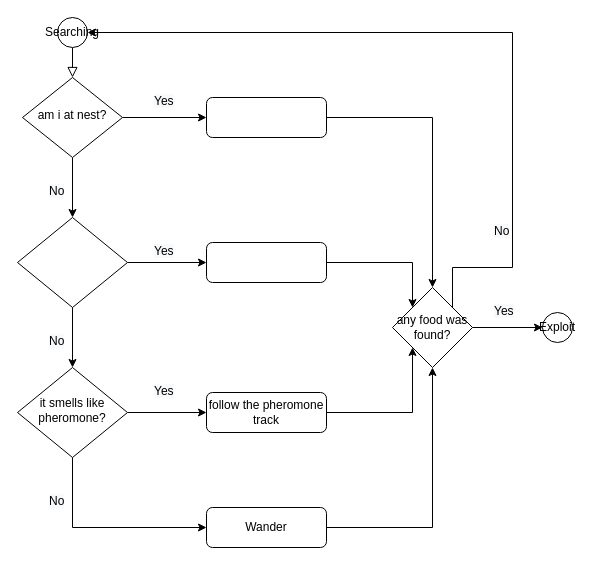
This 593x565 diagram has some shape labels left out. Here are the shapes that lost their labels. From the top down, the centre of each, then its label:
At [266,117]: "Get out and search food".
At [72,262]: "Do i remember where the food source was?".
At [266,262]: "Go straight to that food source".
